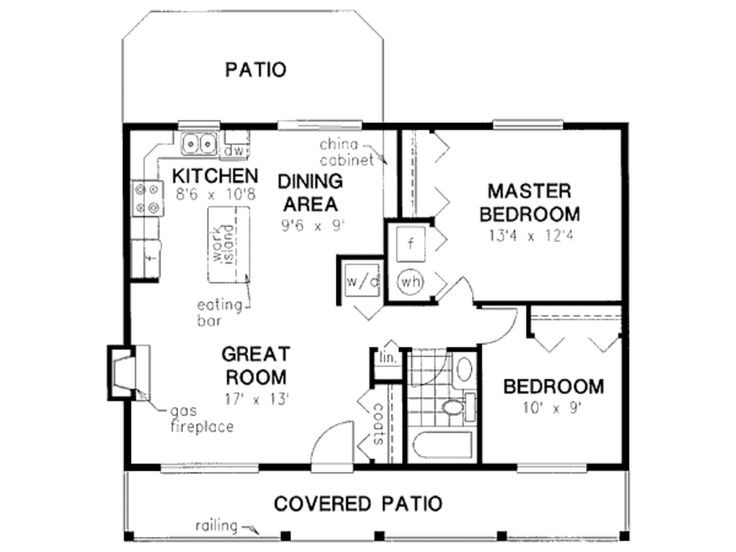door: (301, 422, 358, 467), (479, 304, 520, 345), (410, 350, 447, 387), (440, 274, 476, 302)
room: (132, 312, 401, 464), (131, 129, 253, 309), (489, 311, 620, 471), (406, 141, 620, 227), (258, 135, 371, 291), (408, 348, 478, 464), (386, 223, 437, 302)
wall: (121, 122, 132, 350), (619, 124, 631, 299), (355, 462, 520, 471), (624, 301, 631, 472), (395, 130, 407, 220), (401, 347, 410, 464), (474, 347, 483, 463), (475, 298, 623, 305), (381, 217, 391, 307), (564, 118, 629, 131), (386, 124, 493, 131), (124, 398, 134, 469), (260, 461, 314, 472), (223, 121, 281, 130), (387, 297, 433, 307), (338, 251, 385, 260), (106, 338, 112, 402), (371, 375, 402, 387), (336, 256, 343, 306), (591, 463, 628, 472), (368, 348, 375, 395), (129, 124, 175, 131), (388, 217, 431, 224), (131, 273, 160, 283), (126, 464, 161, 472)
window: (162, 463, 260, 476), (491, 116, 562, 133), (521, 459, 590, 475), (279, 119, 362, 130), (179, 119, 223, 130)
